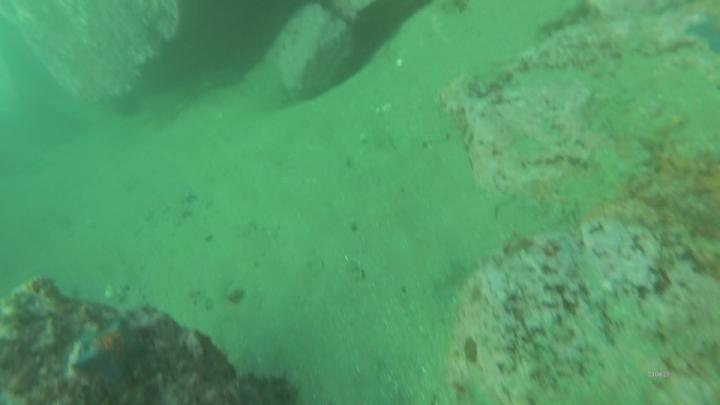starfish: (72, 319, 150, 389)
